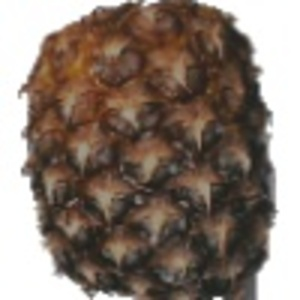abacaxi: (16, 3, 283, 296)
